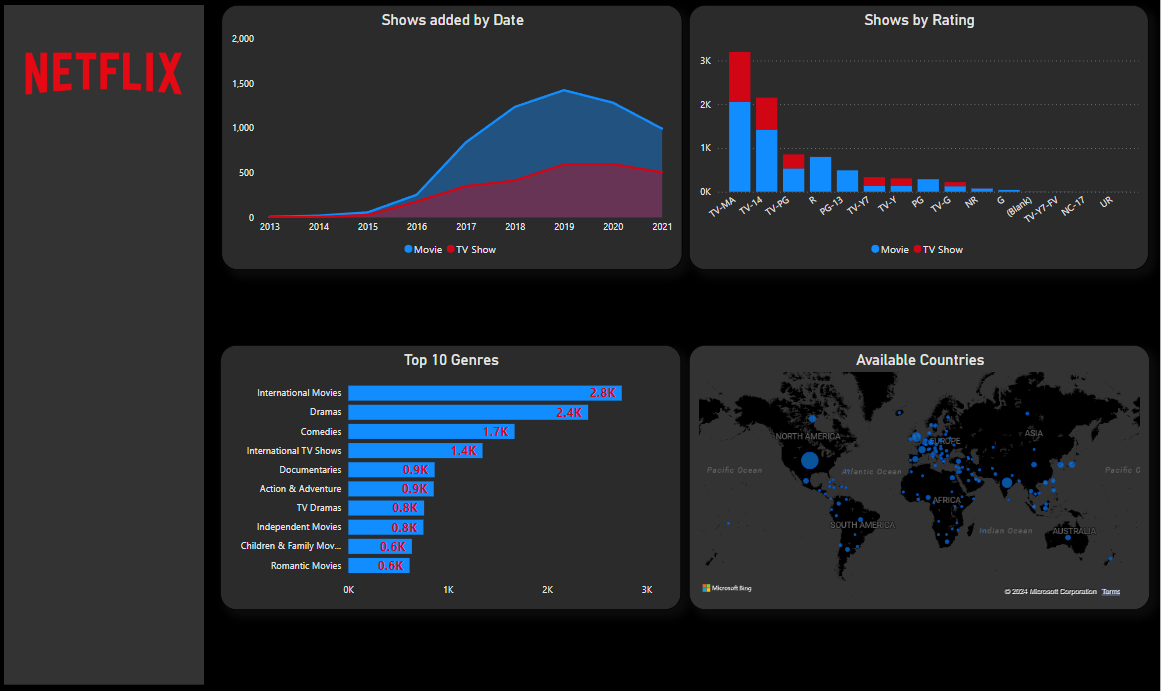

This screenshot's page, from the dashboard's own definition file:
{"tool":"powerbi","page":{"name":"Overview","canvas":[1500,900],"ordinal":0},"visuals":[{"type":"shape","box":[12.9,12.9,257.3,874.8],"z":0},{"type":"areaChart","title":"Shows added by Date","fields":{"Category":["netflix_data netflix_titles.date_added.Variation.Date Hierarchy.Year"],"Y":["CountNonNull(netflix_data netflix_titles.show_id)"],"Series":["netflix_data netflix_titles.type"]},"box":[292.3,13.4,593,340.8],"z":1000},{"type":"columnChart","title":"Shows by Rating","fields":{"Category":["netflix_data netflix_titles.rating"],"Y":["CountNonNull(netflix_data netflix_titles.show_id)"],"Series":["netflix_data netflix_titles.type"]},"box":[893.7,13.4,591.3,340.8],"z":2000},{"type":"clusteredBarChart","title":"Top 10 Genres","fields":{"Category":["netflix_data netflix_listed_in.category"],"Y":["CountNonNull(netflix_data netflix_listed_in.show_id)"]},"box":[290.6,451,593,340.8],"z":3000},{"type":"map","title":"Available Countries","fields":{"Category":["netflix_data countries_released.country"],"Size":["CountNonNull(netflix_data countries_released.show_id)"]},"box":[893.7,451,593,340.8],"z":4000},{"type":"image","box":[13.4,13.4,257.2,170.4],"z":5000}]}

Visuals, with their boxes in screenshot pixels (x1, y1, x2, y2), scaled from the page's 1500x900 canvas onto the 1161x691 screenshot:
shape: x1=10 y1=10 x2=209 y2=682
"Shows added by Date" areaChart: x1=226 y1=10 x2=685 y2=272
"Shows by Rating" columnChart: x1=692 y1=10 x2=1149 y2=272
"Top 10 Genres" clusteredBarChart: x1=225 y1=346 x2=684 y2=608
"Available Countries" map: x1=692 y1=346 x2=1151 y2=608
image: x1=10 y1=10 x2=209 y2=141
